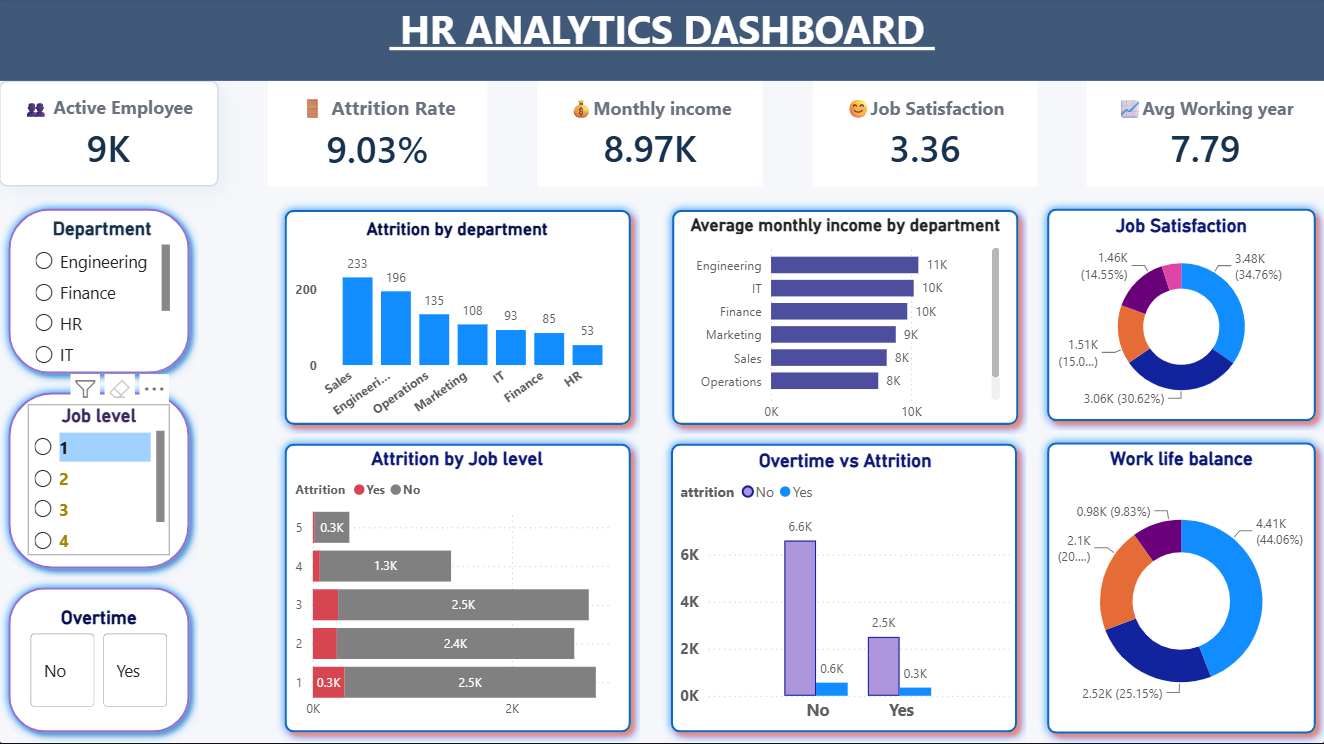

This screenshot's page, from the dashboard's own definition file:
{"tool":"powerbi","page":{"name":"Page 1","canvas":[1280,720],"ordinal":0},"visuals":[{"type":"cardVisual","fields":{"Data":["Hr_sheet.Active_employee"]},"box":[0,79.6,212.3,102.5],"z":0},{"type":"cardVisual","fields":{"Data":["Hr_sheet.Attrition Rate"]},"box":[260,79.6,212.3,102.5],"z":1000},{"type":"cardVisual","fields":{"Data":["Hr_sheet.Average_monthly_income"]},"box":[520,79.6,217.2,102.5],"z":2000},{"type":"cardVisual","fields":{"Data":["Hr_sheet.Average_job_satisfaction"]},"box":[784.8,79.6,217.2,102.5],"z":3000},{"type":"cardVisual","fields":{"Data":["Hr_sheet.Average_years"]},"box":[1049.6,79.6,230.4,102.5],"z":4000},{"type":"shape","box":[0,194.2,193,177.3],"z":5000},{"type":"listSlicer","title":"Department","fields":{"Values":["Hr_sheet.department"]},"box":[29,212.3,141.2,147.2],"z":6000},{"type":"shape","box":[0,371.6,193,188.2],"z":7000},{"type":"shape","box":[0,559.8,193,158],"z":8000},{"type":"listSlicer","title":"Job level","fields":{"Values":["Hr_sheet.joblevel"]},"box":[27.7,392.1,137.5,146],"z":9000},{"type":"advancedSlicerVisual","title":"Overtime","fields":{"Values":["Hr_sheet.overtime"]},"box":[25.3,587.5,142.4,102.5],"z":10000},{"type":"shape","box":[266.6,195.4,352.3,225.6],"z":11000},{"type":"textbox","box":[0,0,1280,79.6],"z":12000},{"type":"clusteredColumnChart","title":"Attrition by department","fields":{"Category":["Hr_sheet.department"],"Y":["CountNonNull(Hr_sheet.employeeid)"]},"box":[281.1,212.3,322.1,205.1],"z":13000},{"type":"shape","box":[266.6,421,352.3,296.8],"z":14000},{"type":"barChart","title":"Attrition by Job level","fields":{"Y":["CountNonNull(Hr_sheet.overtime)"],"Category":["Hr_sheet.joblevel"],"Series":["Hr_sheet.attrition"]},"box":[281.1,434.3,322.1,270.2],"z":15000},{"type":"shape","box":[640.6,195.4,352.3,225.6],"z":16000},{"type":"clusteredBarChart","title":"Average monthly income by department","fields":{"Category":["Hr_sheet.department"],"Y":["Hr_sheet.Average_monthly_income"]},"box":[662.3,208.7,308.8,208.7],"z":17000},{"type":"shape","box":[639.4,421,352.3,296.8],"z":18000},{"type":"clusteredColumnChart","title":"Overtime vs Attrition","fields":{"Category":["Hr_sheet.overtime"],"Y":["CountNonNull(Hr_sheet.employeeid)"],"Series":["Hr_sheet.attrition"]},"box":[652.7,435.5,328.2,273.9],"z":19000},{"type":"shape","box":[1002.6,194.2,277.5,223.2],"z":20000},{"type":"donutChart","title":"Job Satisfaction","fields":{"Category":["Hr_sheet.jobsatisfaction"],"Y":["CountNonNull(Hr_sheet.employeeid)"]},"box":[1013.4,208.7,255.8,196.6],"z":21000},{"type":"shape","box":[1002.6,419.8,277.5,299.2],"z":22000},{"type":"donutChart","title":"Work life balance","fields":{"Category":["Hr_sheet.worklifebalance"],"Y":["CountNonNull(Hr_sheet.employeeid)"]},"box":[1013.4,434.3,255.8,275.1],"z":23000}]}

Visuals, with their boxes in screenshot pixels (x1, y1, x2, y2), scaled from the page's 1280x720 canvas onto the 1324x744 screenshot:
cardVisual - Hr_sheet.Active_employee: l=0, t=82, r=220, b=188
cardVisual - Hr_sheet.Attrition Rate: l=269, t=82, r=489, b=188
cardVisual - Hr_sheet.Average_monthly_income: l=538, t=82, r=763, b=188
cardVisual - Hr_sheet.Average_job_satisfaction: l=812, t=82, r=1036, b=188
cardVisual - Hr_sheet.Average_years: l=1086, t=82, r=1323, b=188
shape: l=0, t=201, r=200, b=384
"Department" listSlicer: l=30, t=219, r=176, b=371
shape: l=0, t=384, r=200, b=578
shape: l=0, t=578, r=200, b=742
"Job level" listSlicer: l=29, t=405, r=171, b=556
"Overtime" advancedSlicerVisual: l=26, t=607, r=173, b=713
shape: l=276, t=202, r=640, b=435
textbox: l=0, t=0, r=1323, b=82
"Attrition by department" clusteredColumnChart: l=291, t=219, r=624, b=431
shape: l=276, t=435, r=640, b=742
"Attrition by Job level" barChart: l=291, t=449, r=624, b=728
shape: l=663, t=202, r=1027, b=435
"Average monthly income by department" clusteredBarChart: l=685, t=216, r=1004, b=431
shape: l=661, t=435, r=1026, b=742
"Overtime vs Attrition" clusteredColumnChart: l=675, t=450, r=1015, b=733
shape: l=1037, t=201, r=1323, b=431
"Job Satisfaction" donutChart: l=1048, t=216, r=1313, b=419
shape: l=1037, t=434, r=1323, b=743
"Work life balance" donutChart: l=1048, t=449, r=1313, b=733
